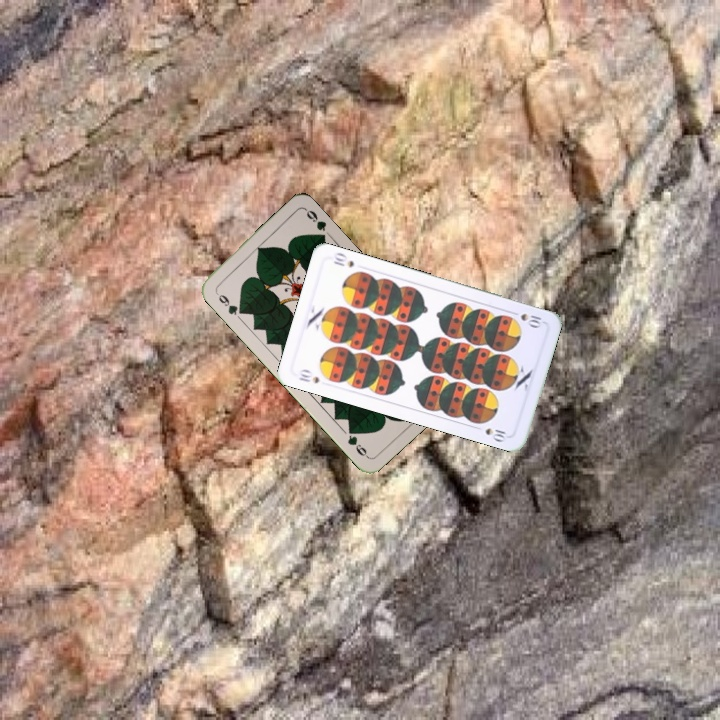G9: (211, 287, 246, 318)
S10: (294, 365, 322, 386), (517, 309, 544, 330)
